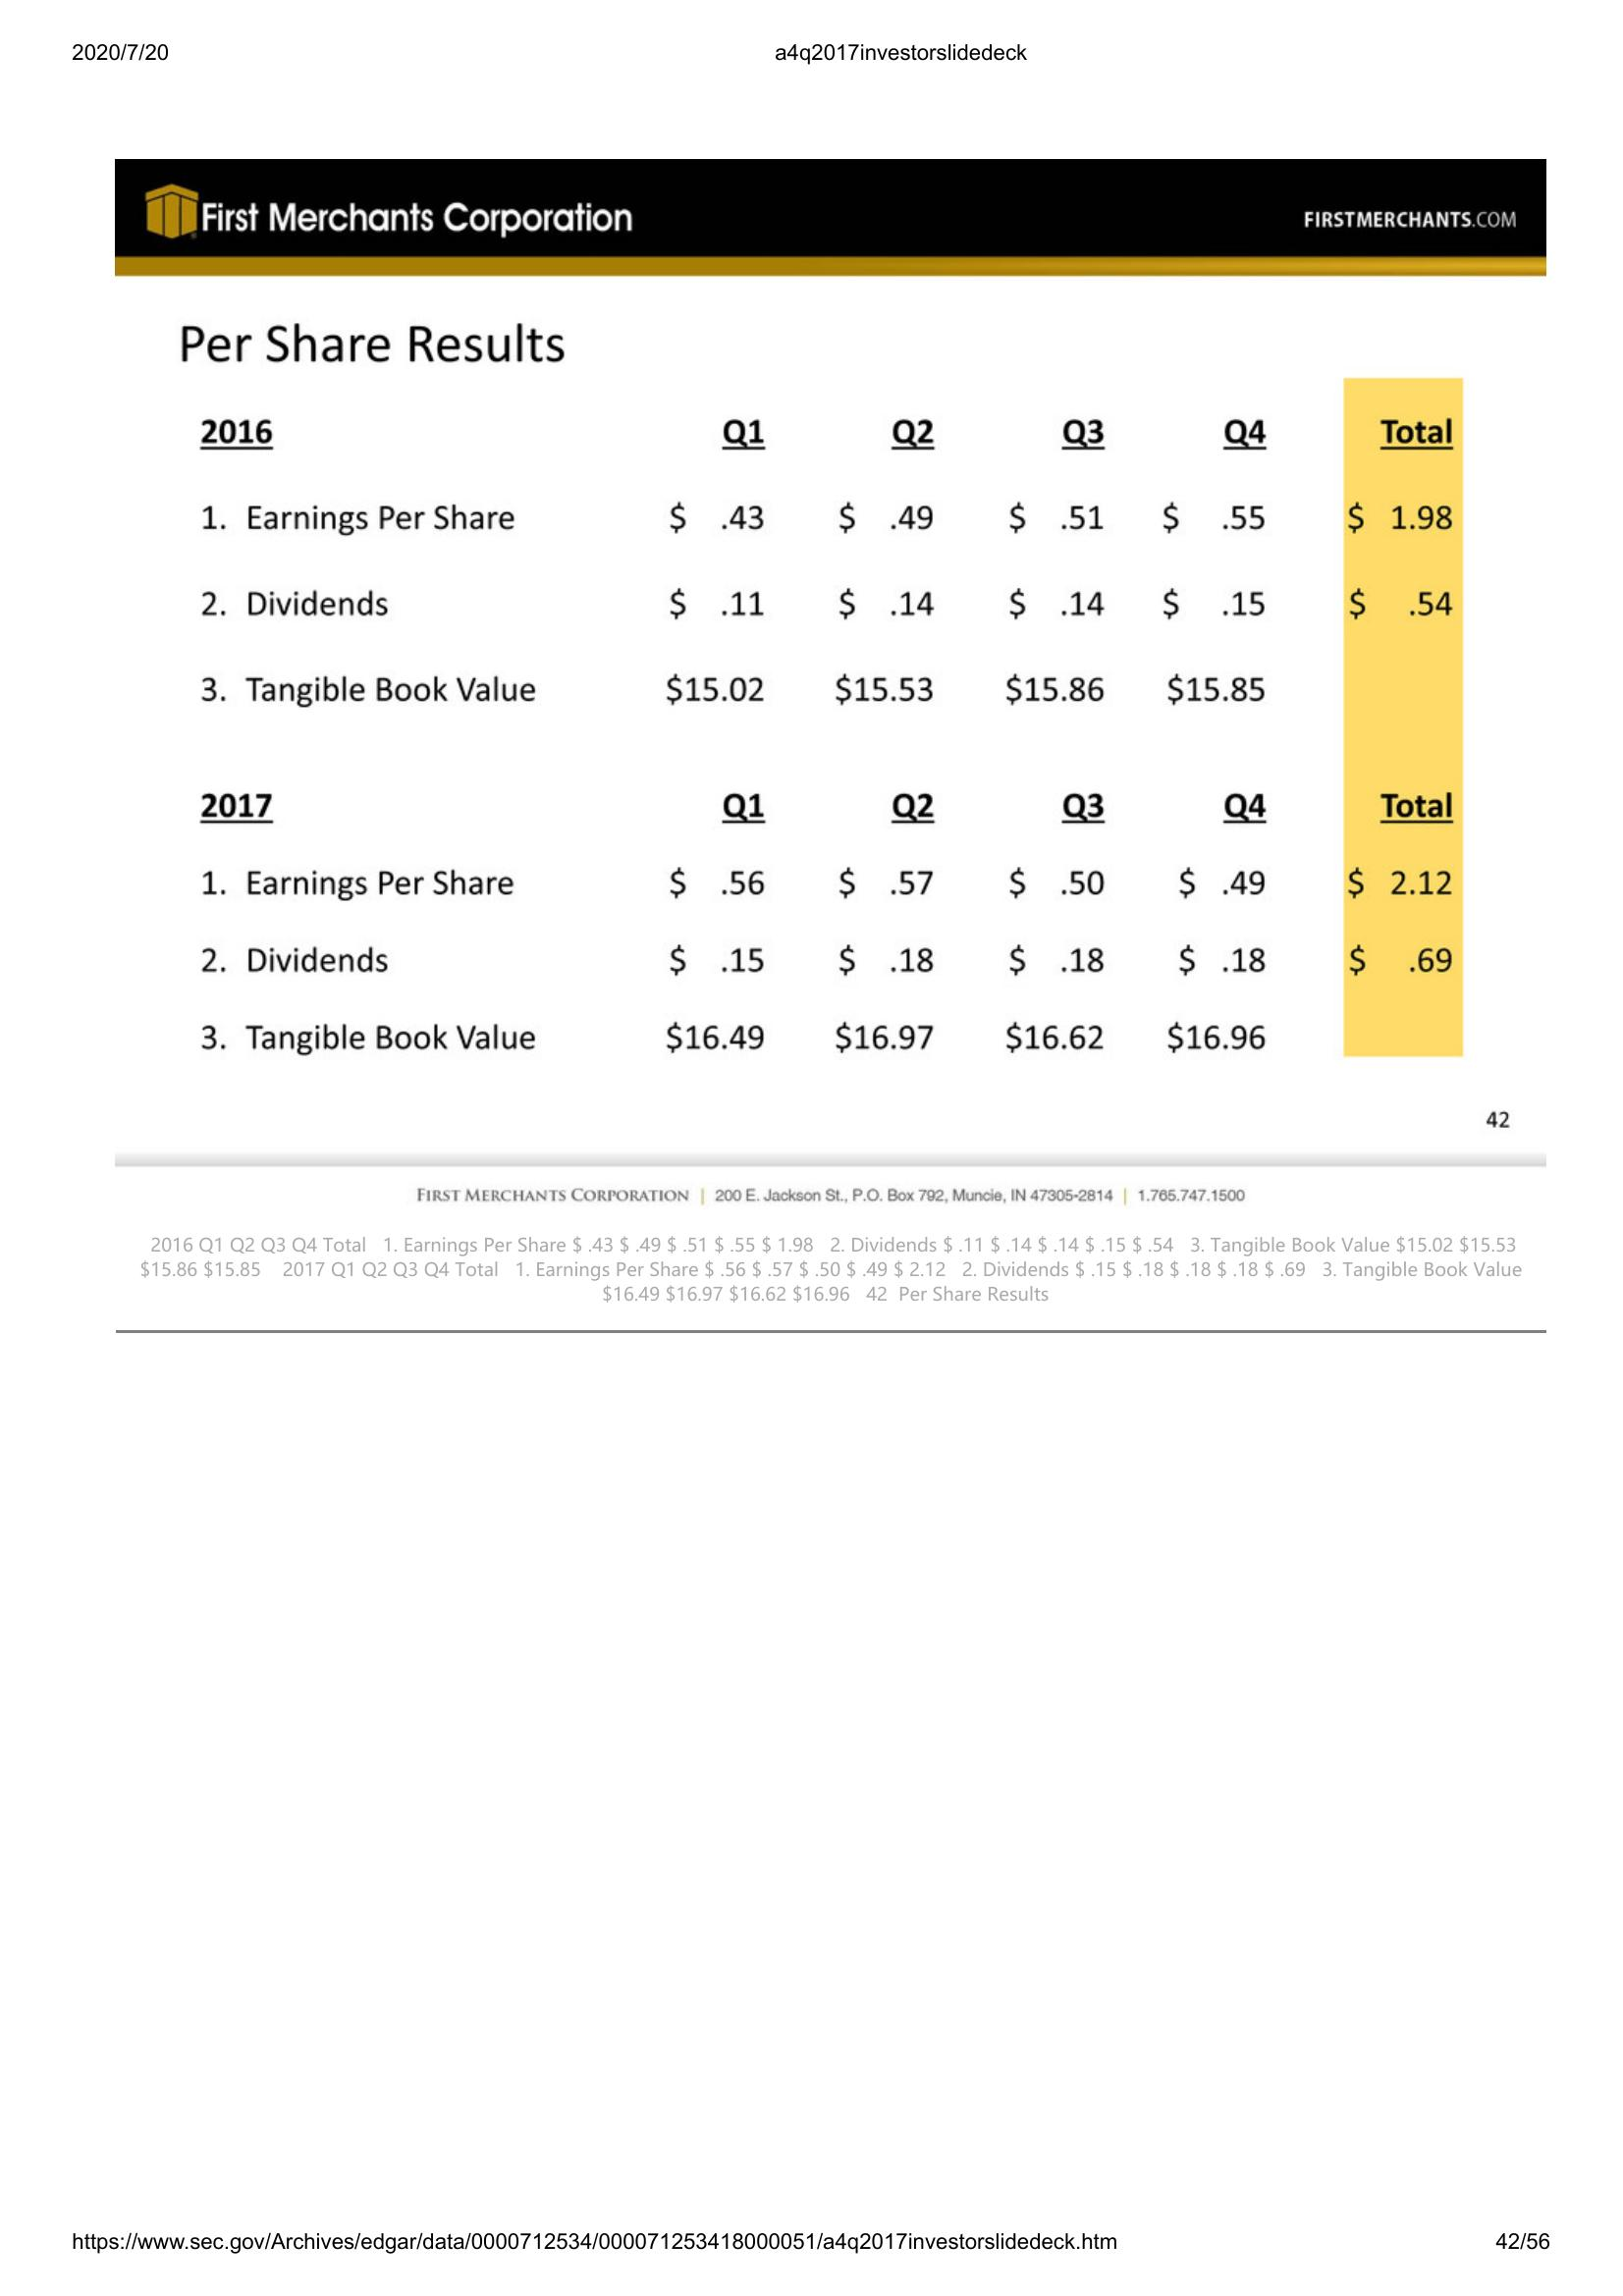table: (163, 312, 1467, 1057)
